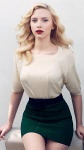female: (23, 2, 64, 53)
